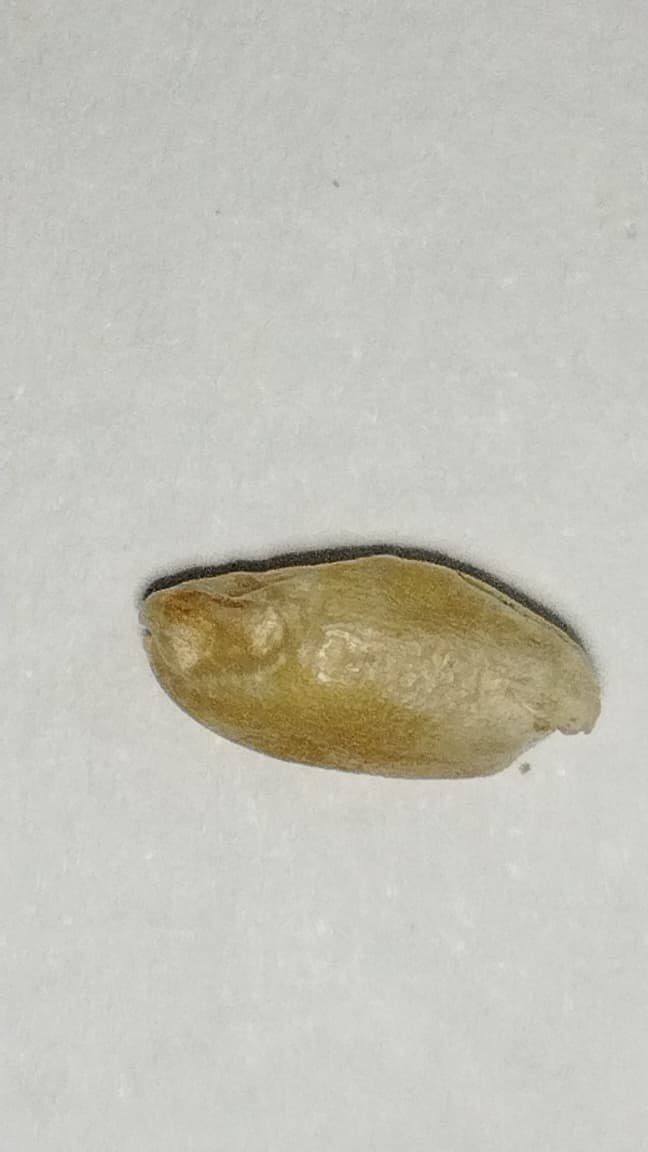healthy: (141, 552, 599, 775)
